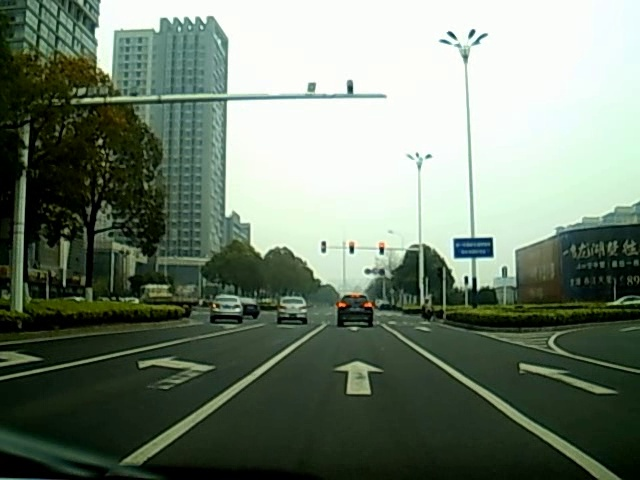Traffic_Light_stop: (379, 243, 386, 258), (349, 241, 355, 255)
